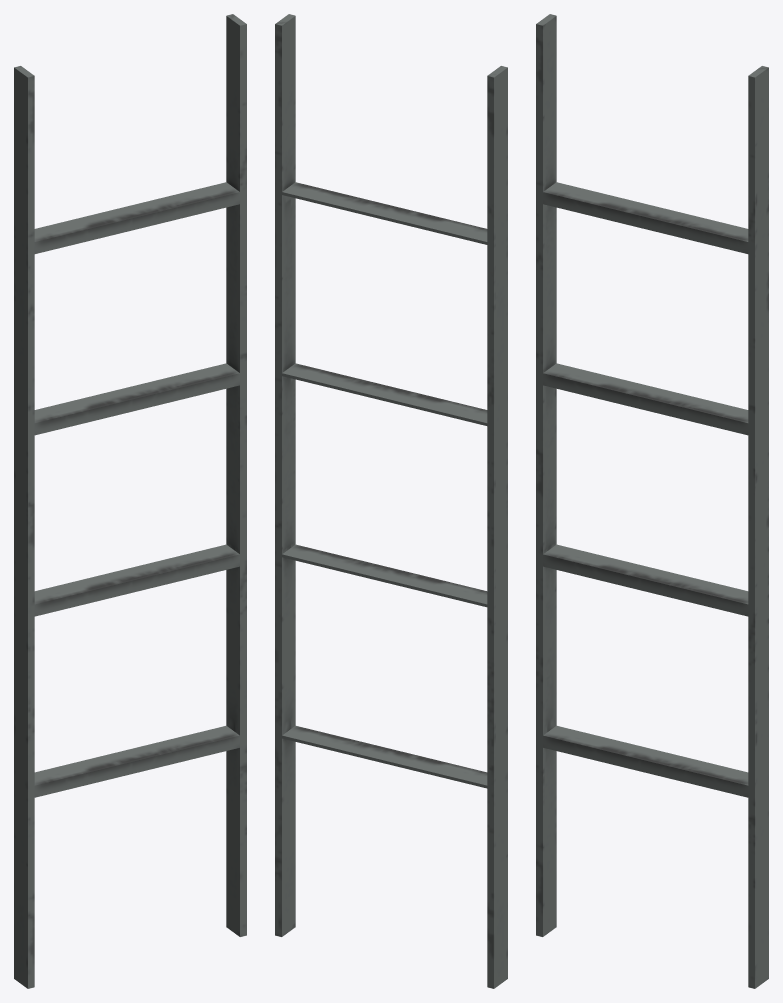
File: Ladder.fbx
3 views of the same model, side by side, from view 1: azimuth 30°, elevation 25°; view 2: azimuth 150°, elevation 25°; view 3: azimuth 330°, elevation 25° (orthographic).
Parts seen in each view (by area): view 1: Ladder; view 2: Ladder; view 3: Ladder.
Part boxes in pixels (x1,y1,x2,y2): Ladder: (14,14,246,988); Ladder: (275,14,507,988); Ladder: (536,14,768,988).
Size of the model in its own units: 31.94 by 127 by 3.5.
